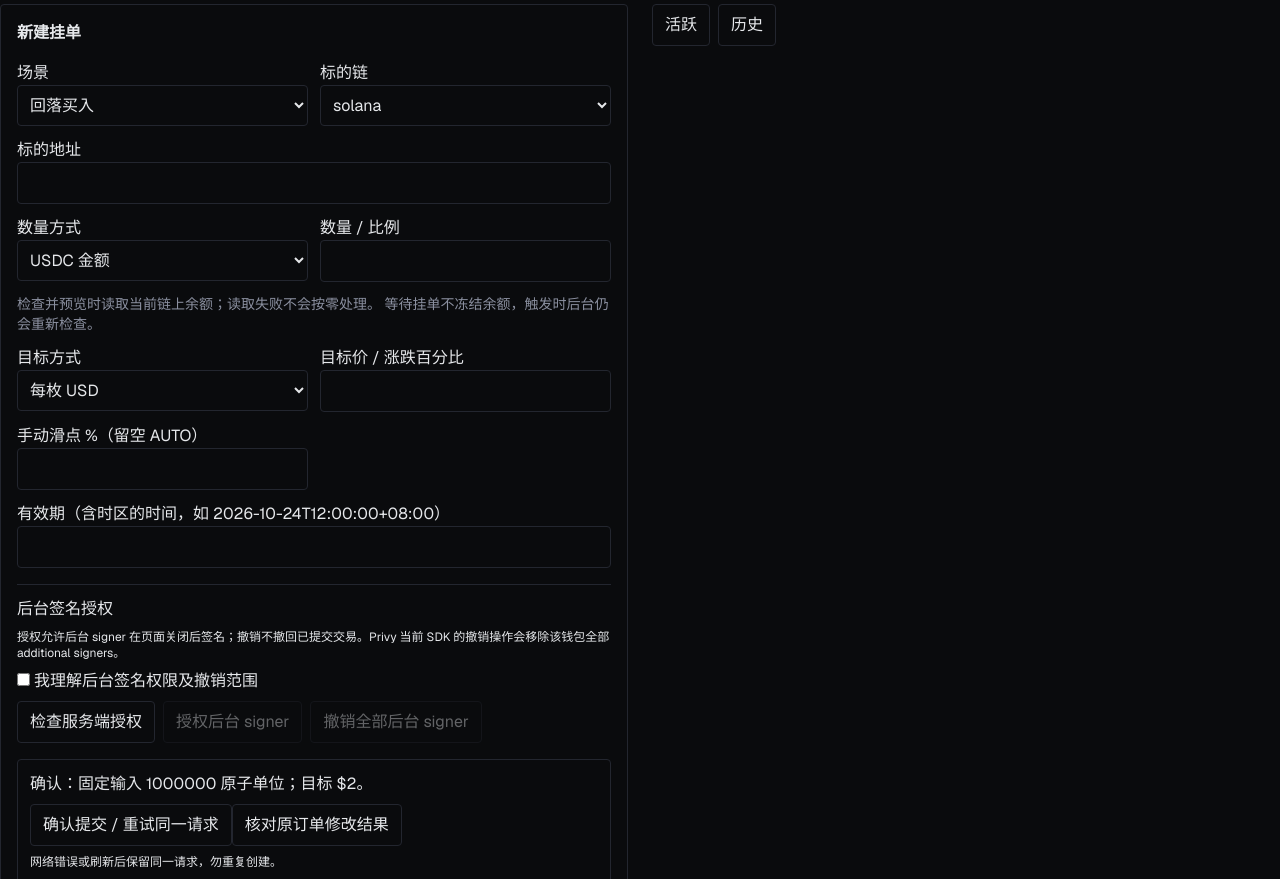
retains an uncertain modification when a read still sees the same waiting version
The width and height of the screenshot is (1280, 879).
(page scrolled)
Click the button "核对原订单修改结果". click: {"x": 317, "y": 825}
box: 232,804 -> 402,846
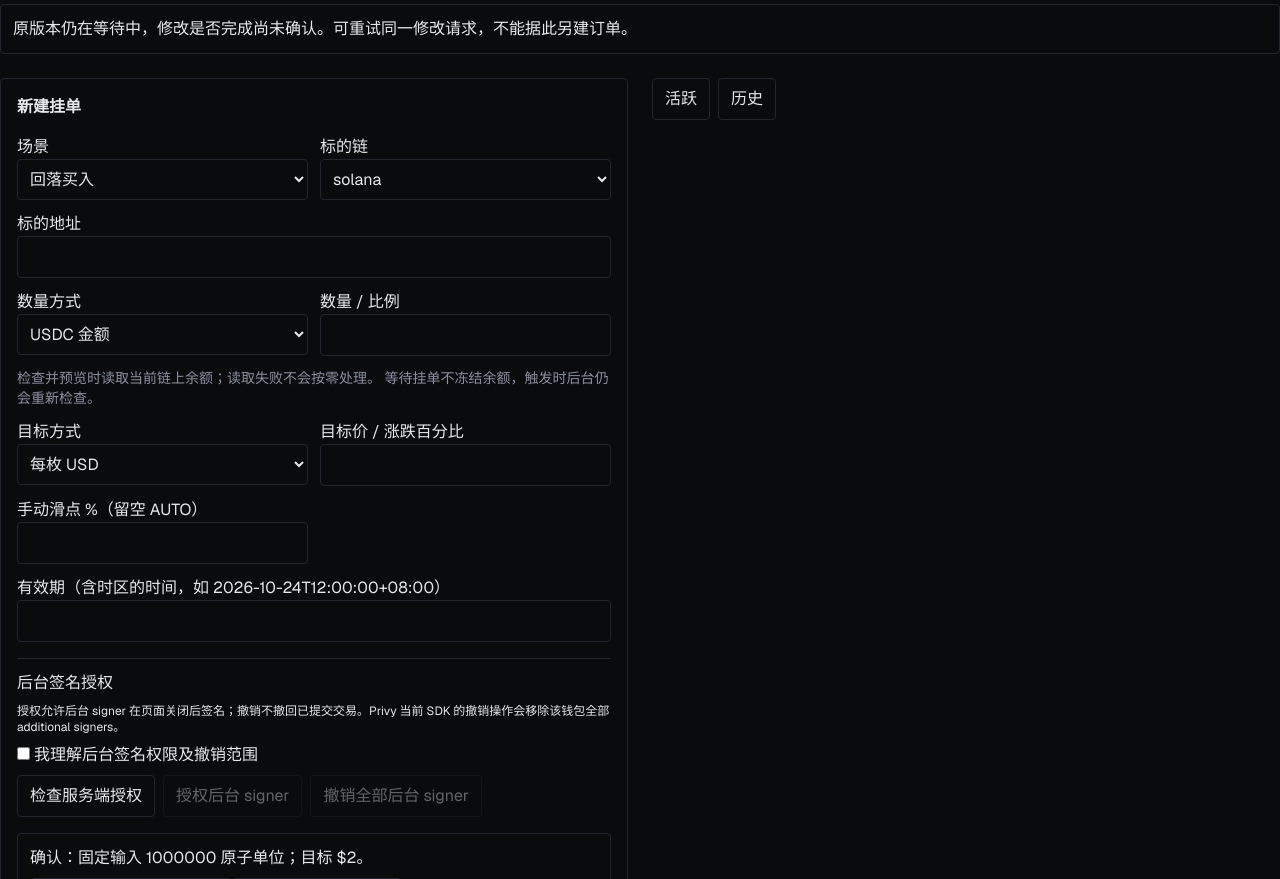
Now the text "原版本仍在等待中，修改是否完成尚未确认。可重试同一修改请求，不能据此另建订单。" is shown, box 0,4 -> 1279,54
